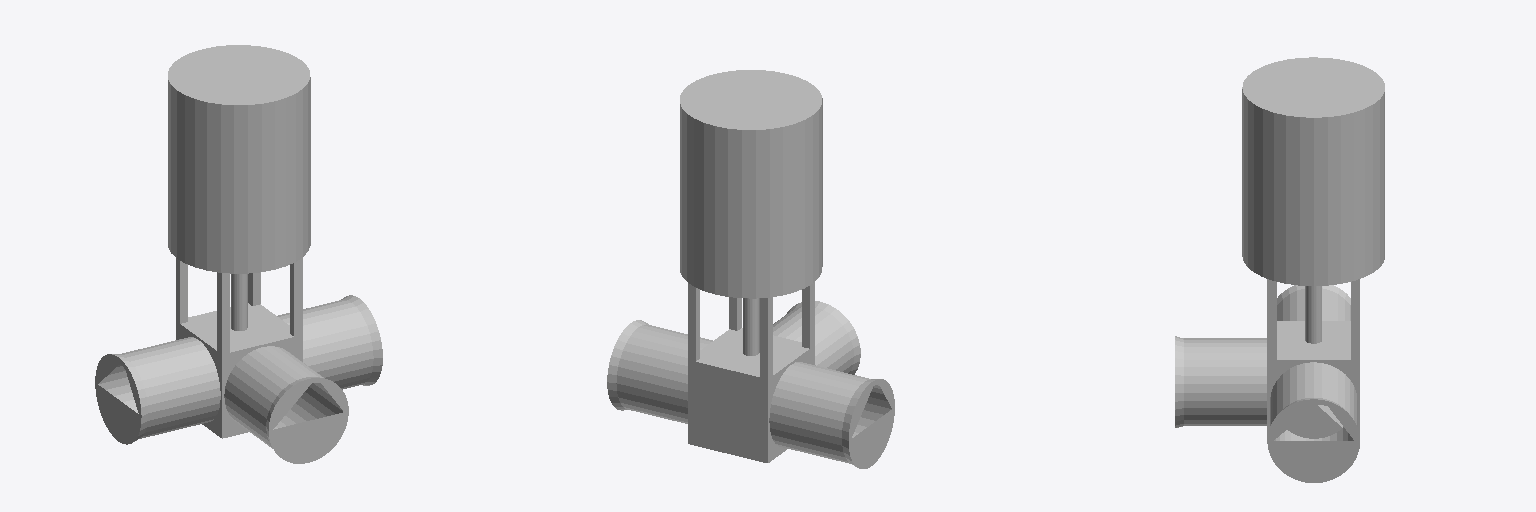
File: WaterSource.obj
3 renders of one model, left to right at view 1: azimuth 30°, elevation 25°; view 2: azimuth 150°, elevation 25°; view 3: azimuth 270°, elevation 25°, orthographic.
Parts seen in each view (by area): view 1: Cube; view 2: Cube; view 3: Cube.
Boxes of the visible parts, x1,y1,x2,y2 form: Cube: [95, 45, 382, 463]; Cube: [607, 70, 894, 468]; Cube: [1175, 57, 1384, 482].
Bounding box in the file's own units: 3 × 4 × 2.27.